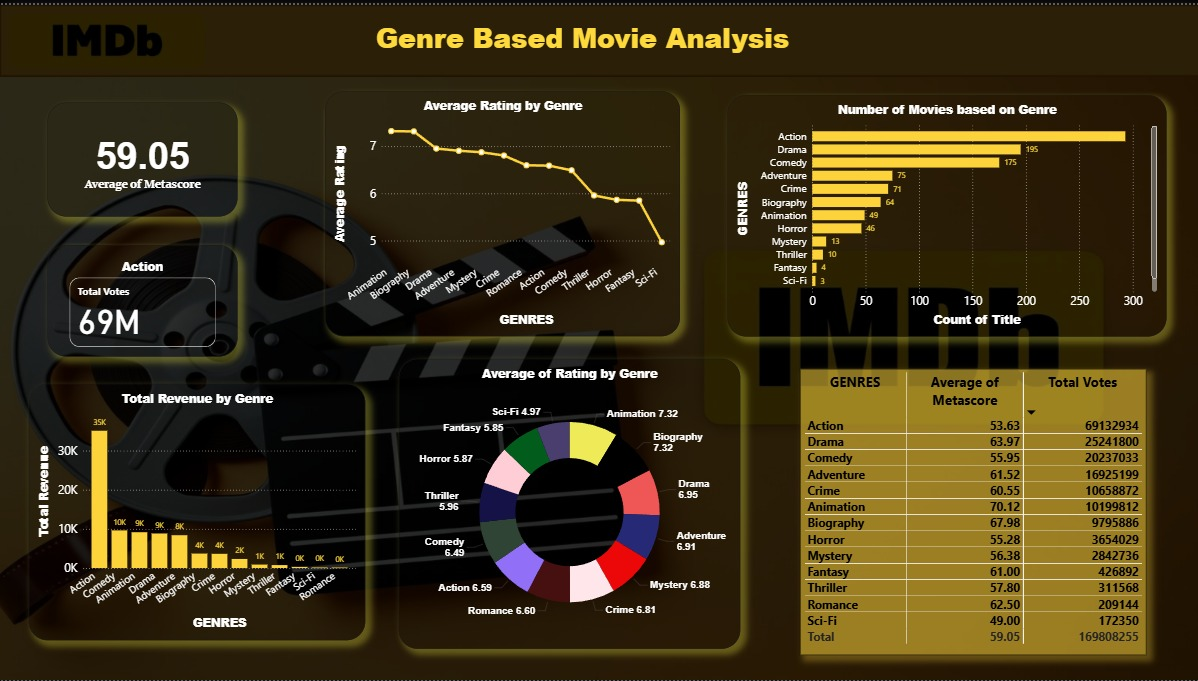

The page's visual inventory and layout, read from the dashboard file:
{"tool":"powerbi","page":{"name":"Page 2","canvas":[1920,1080],"ordinal":1},"visuals":[{"type":"lineChart","title":"Average Rating by Genre","fields":{"Category":["IMDB-Movie-Data.Zhaw-nruh"],"Y":["IMDB-Movie-Data.Average Rating"]},"box":[520,138,568,392],"z":0},{"type":"clusteredColumnChart","title":"Total Revenue by Genre","fields":{"Y":["IMDB-Movie-Data.Total Revenue"],"Category":["IMDB-Movie-Data.Zhaw-nruh"]},"box":[46,606,538,410],"z":1000},{"type":"card","fields":{"Values":["Avg(IMDB-Movie-Data.Metascore)"]},"box":[76,156,304,182],"z":2000},{"type":"tableEx","fields":{"Values":["IMDB-Movie-Data.Zhaw-nruh","Avg(IMDB-Movie-Data.Metascore)","IMDB-Movie-Data.Total Votes"]},"box":[1280,582,554,458],"z":3000},{"type":"clusteredBarChart","title":"Number of Movies based on Genre","fields":{"Category":["IMDB-Movie-Data.Zhaw-nruh"],"Y":["CountNonNull(IMDB-Movie-Data.Title)"]},"box":[1164,144,702,386],"z":4000},{"type":"cardVisual","fields":{"Data":["IMDB-Movie-Data.Total Votes"],"Rows":["IMDB-Movie-Data.Zhaw-nruh"]},"box":[76,384,304,178],"z":5000},{"type":"donutChart","title":"Average of Rating by Genre","fields":{"Category":["IMDB-Movie-Data.Zhaw-nruh"],"Y":["Avg(IMDB-Movie-Data.Rating)"]},"box":[638,566,546,464],"z":6000},{"type":"textbox","box":[584,16,696,84],"z":8000}]}

Visuals, with their boxes in screenshot pixels (x1, y1, x2, y2), scaled from the page's 1920x1080 canvas onto the 1198x681 screenshot:
"Average Rating by Genre" lineChart: [324, 87, 679, 334]
"Total Revenue by Genre" clusteredColumnChart: [29, 382, 364, 641]
card - Avg(IMDB-Movie-Data.Metascore): [47, 98, 237, 213]
tableEx - IMDB-Movie-Data.Zhaw-nruh x Avg(IMDB-Movie-Data.Metascore): [799, 367, 1144, 656]
"Number of Movies based on Genre" clusteredBarChart: [726, 91, 1164, 334]
cardVisual - IMDB-Movie-Data.Total Votes x IMDB-Movie-Data.Zhaw-nruh: [47, 242, 237, 354]
"Average of Rating by Genre" donutChart: [398, 357, 739, 649]
textbox: [364, 10, 799, 63]
